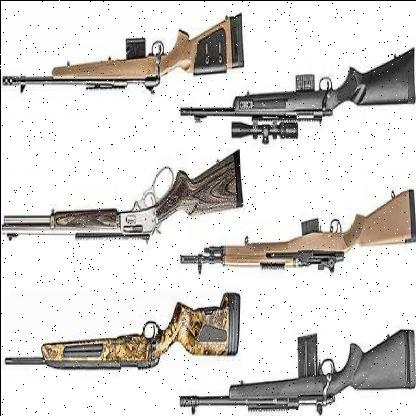rifle: (161, 182, 416, 293), (172, 37, 416, 153), (1, 155, 247, 250), (175, 320, 416, 416), (1, 1, 248, 90), (2, 295, 242, 371)
